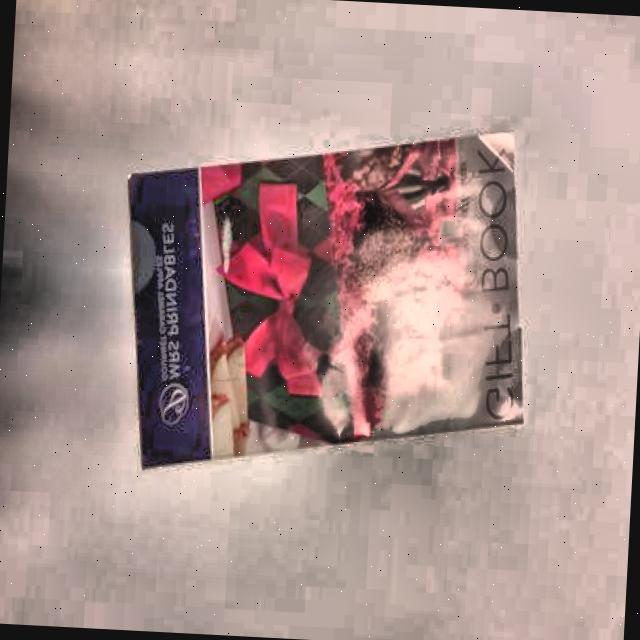paper: (113, 116, 540, 497)
